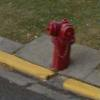Hydrant: (40, 7, 80, 73)
